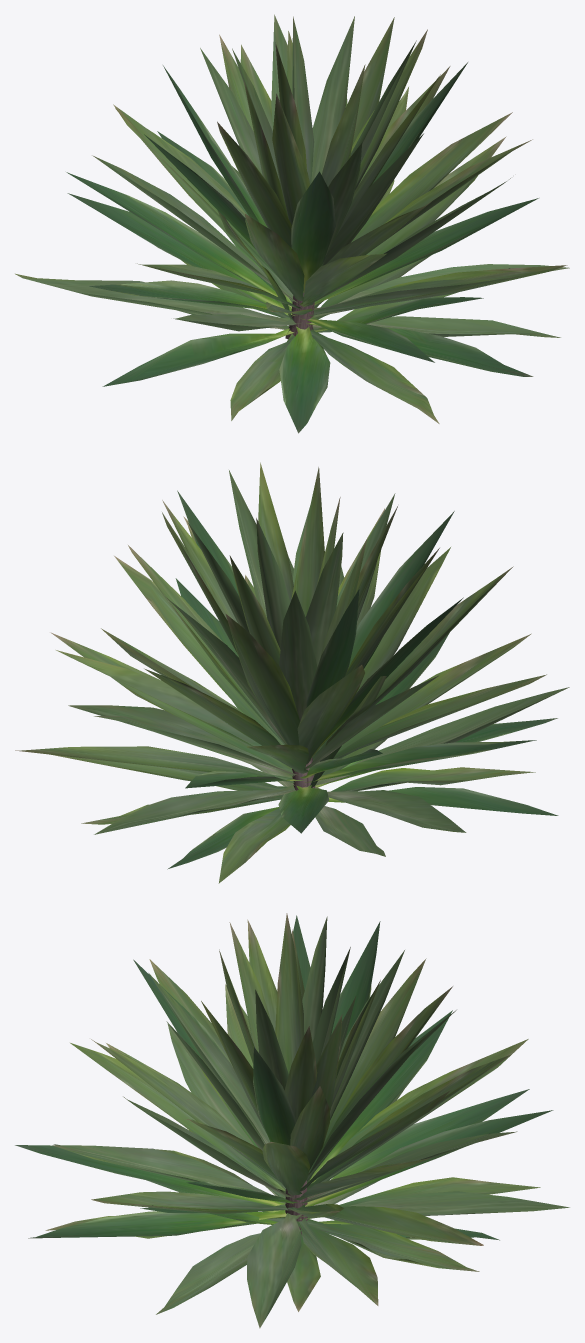
Rendered from agave.obj.
3 views of the same model, one above another, from view 1: azimuth 30°, elevation 25°; view 2: azimuth 150°, elevation 25°; view 3: azimuth 270°, elevation 25° (orthographic). The views are drawn at different scales.
Visible parts, largest first — view 1: agave; view 2: agave; view 3: agave.
Part boxes in pixels (x1,y1,x2,y2): agave: (15, 14, 569, 433); agave: (15, 462, 569, 883); agave: (15, 913, 569, 1328).
Size of the model in its own units: 1.52 by 0.9355 by 1.56.
